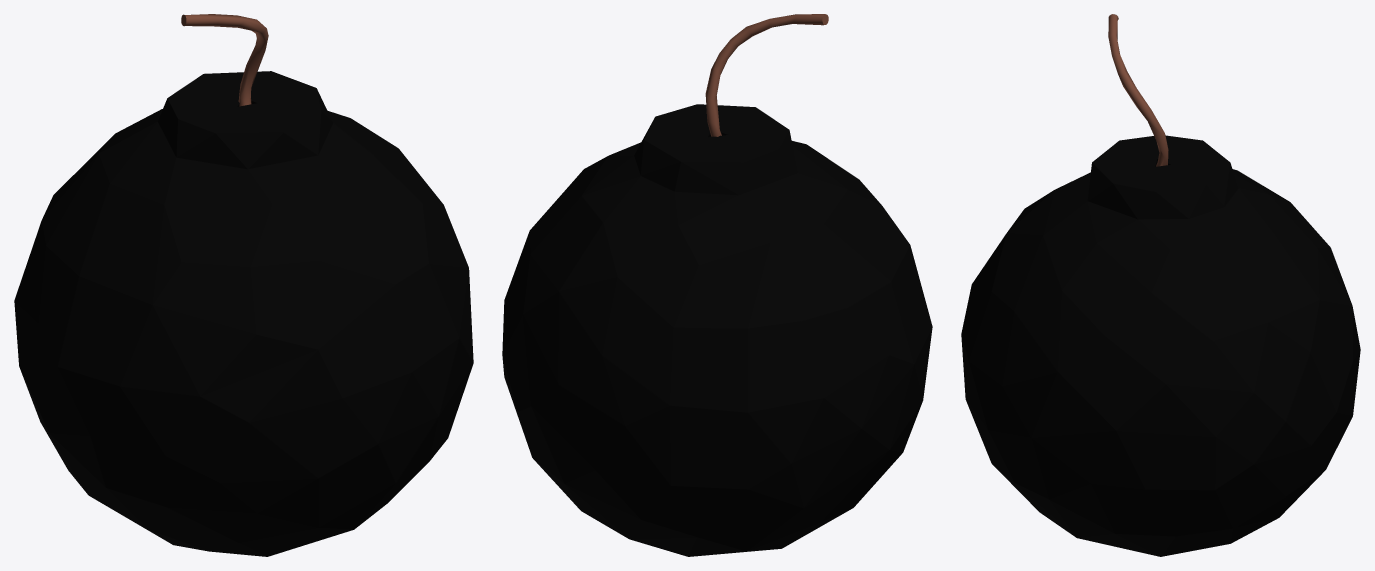
Rendered from bomb_angular.fbx.
The picture shows the model from 3 angles, left to right: view 1: azimuth 30°, elevation 25°; view 2: azimuth 150°, elevation 25°; view 3: azimuth 270°, elevation 25°; orthographic projection. The views are drawn at different scales.
Parts seen in each view (by area): view 1: Sphere, BézierCurve; view 2: Sphere, BézierCurve; view 3: Sphere, BézierCurve.
Part boxes in pixels (<box>): Sphere: <box>14,71,473,556</box>; BézierCurve: <box>181,14,268,106</box>; Sphere: <box>502,104,932,556</box>; BézierCurve: <box>705,14,828,136</box>; Sphere: <box>961,135,1360,556</box>; BézierCurve: <box>1108,14,1168,166</box>.
Bounding box in the file's own units: 18.89 × 25.48 × 19.02.
